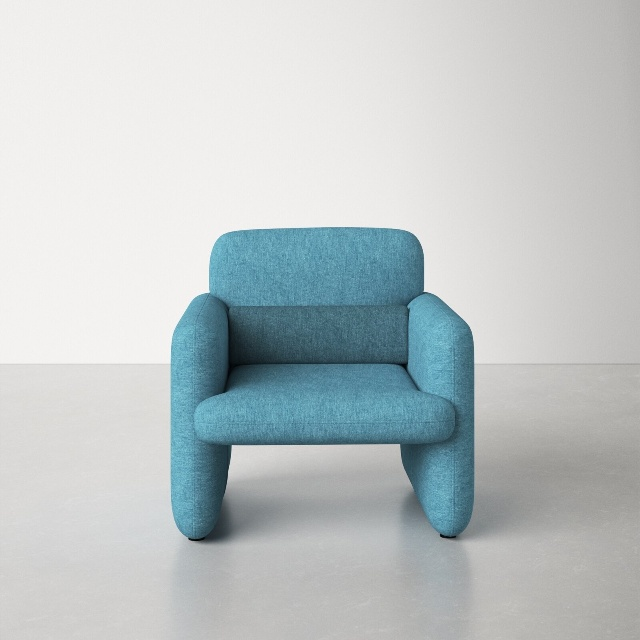obstacle: (171, 228, 474, 539)
